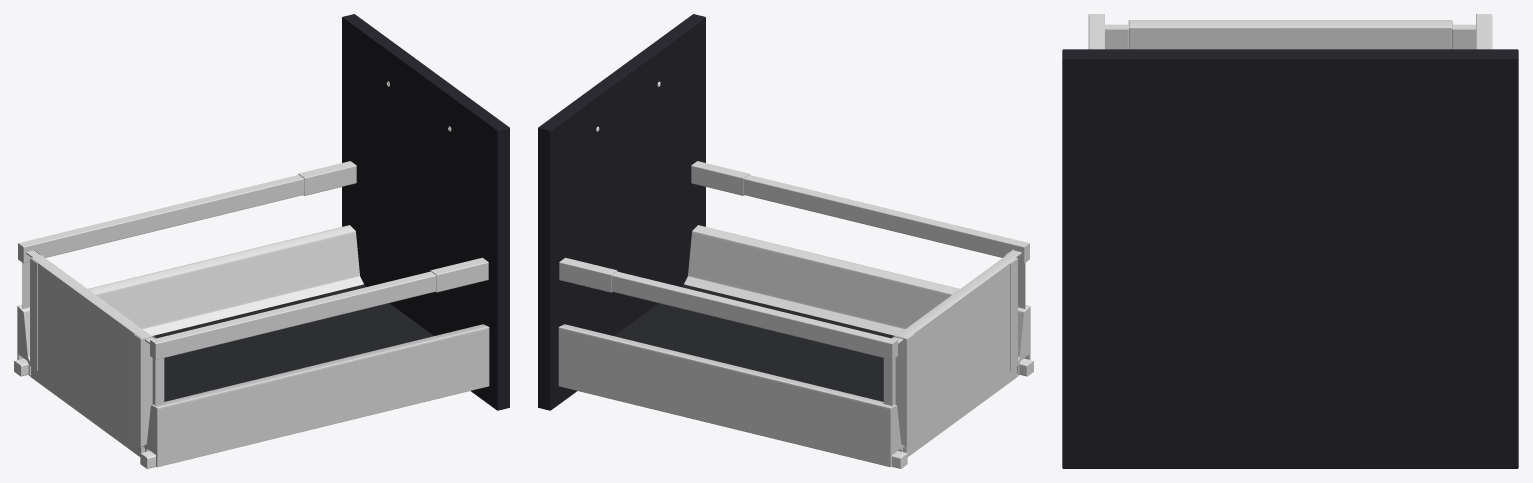
File: Kitchen06Drawer03.fbx
The picture shows the model from 3 angles, left to right: view 1: azimuth 30°, elevation 25°; view 2: azimuth 150°, elevation 25°; view 3: azimuth 270°, elevation 25°; orthographic projection. The views are drawn at different scales.
Parts seen in each view (by area): view 1: Kitchen06Drawer03; view 2: Kitchen06Drawer03; view 3: Kitchen06Drawer03.
Part boxes in pixels (x1,y1,x2,y2): Kitchen06Drawer03: [14, 14, 509, 468]; Kitchen06Drawer03: [538, 14, 1033, 468]; Kitchen06Drawer03: [1062, 14, 1518, 468].
Size of what is drawn, in the model's own units: 51.99 by 39.8 by 39.6.
Materials: 4 (1 with a texture image).
